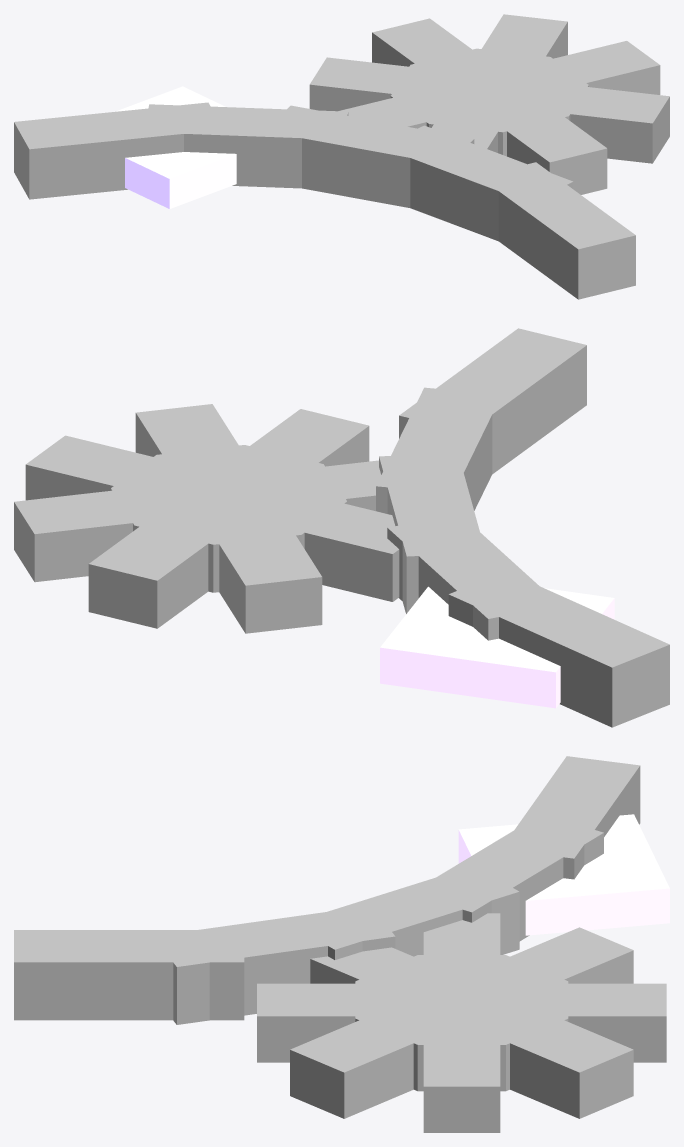
File: sw_shard.glb
3 views of the same model, one above another, from view 1: azimuth 30°, elevation 25°; view 2: azimuth 150°, elevation 25°; view 3: azimuth 270°, elevation 25° (orthographic). The views are drawn at different scales.
Visible parts, largest first — view 1: sw_shard; view 2: sw_shard; view 3: sw_shard.
Part boxes in pixels (x1,y1,x2,y2): sw_shard: (14,14,669,299); sw_shard: (14,328,669,727); sw_shard: (14,756,669,1132).
Bounding box in the file's own units: 0.2958 × 0.025 × 0.2563.
